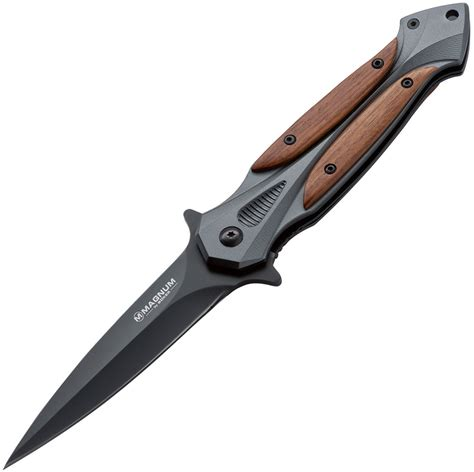knife: (6, 2, 468, 467)
